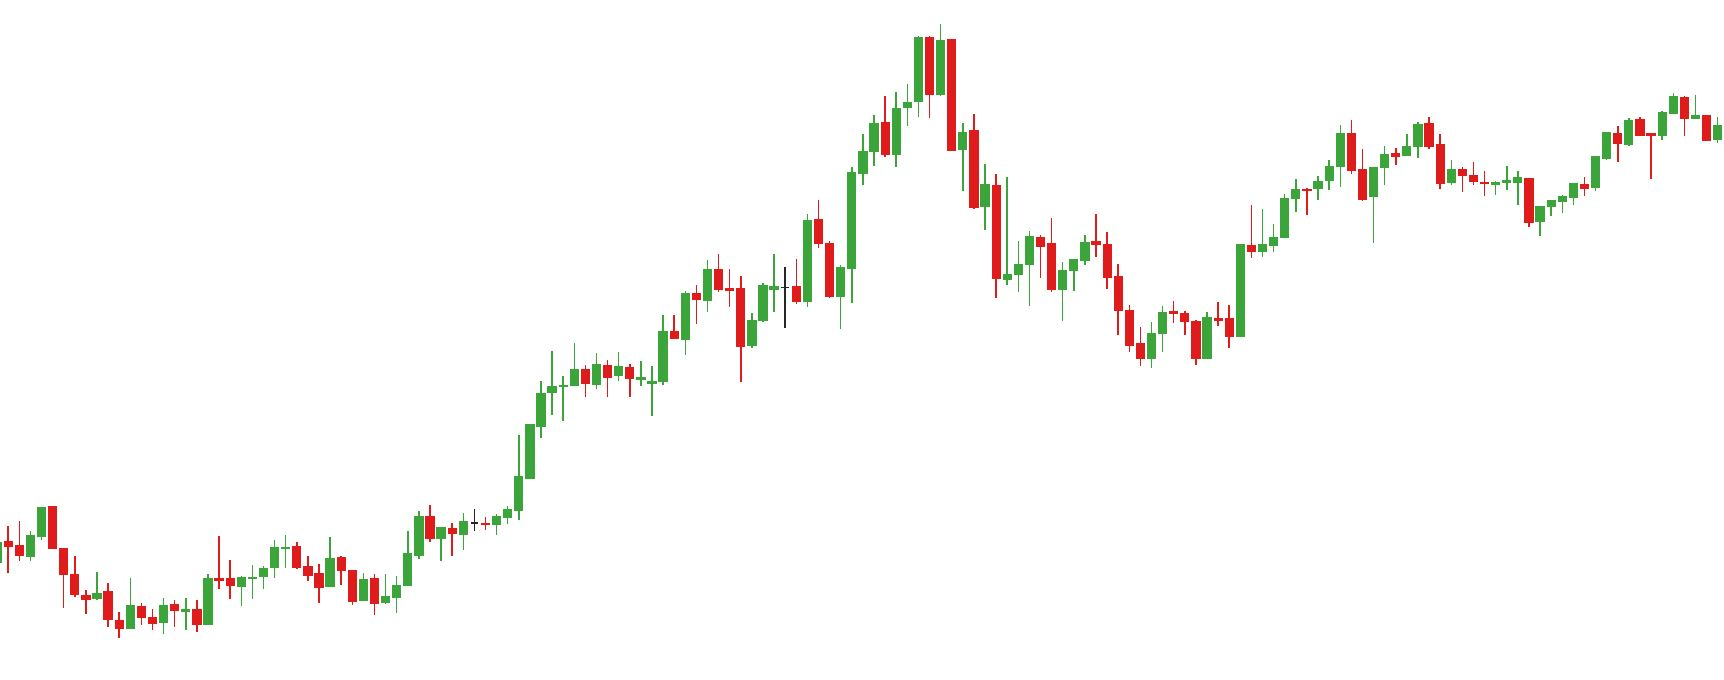buy: (681, 284, 760, 379)
sell: (1346, 119, 1437, 176)
